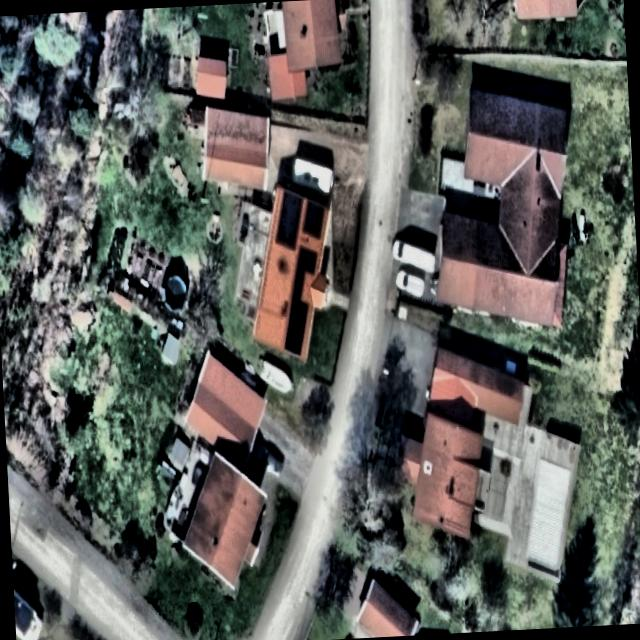roof_pv: (272, 186, 308, 252), (281, 299, 310, 356), (288, 258, 309, 310), (301, 200, 325, 240), (295, 240, 319, 276)
